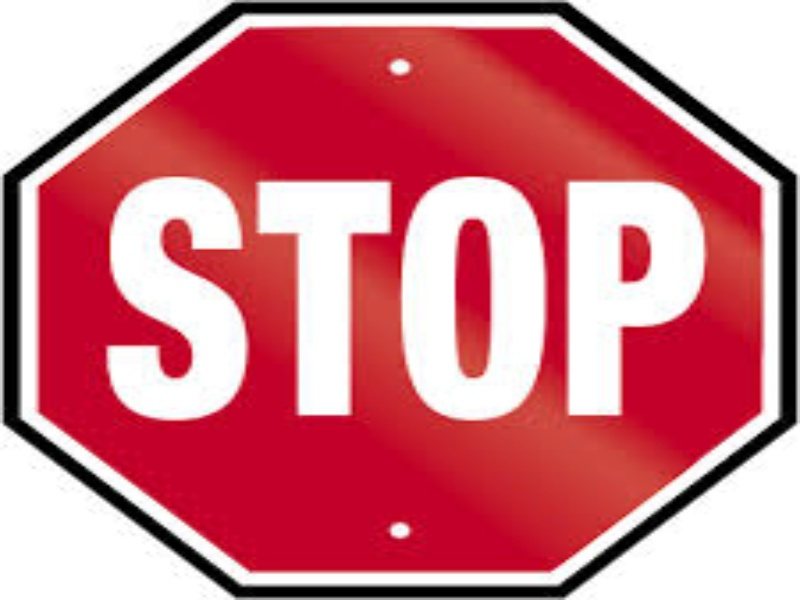Stop_Sign: (3, 1, 800, 591)
